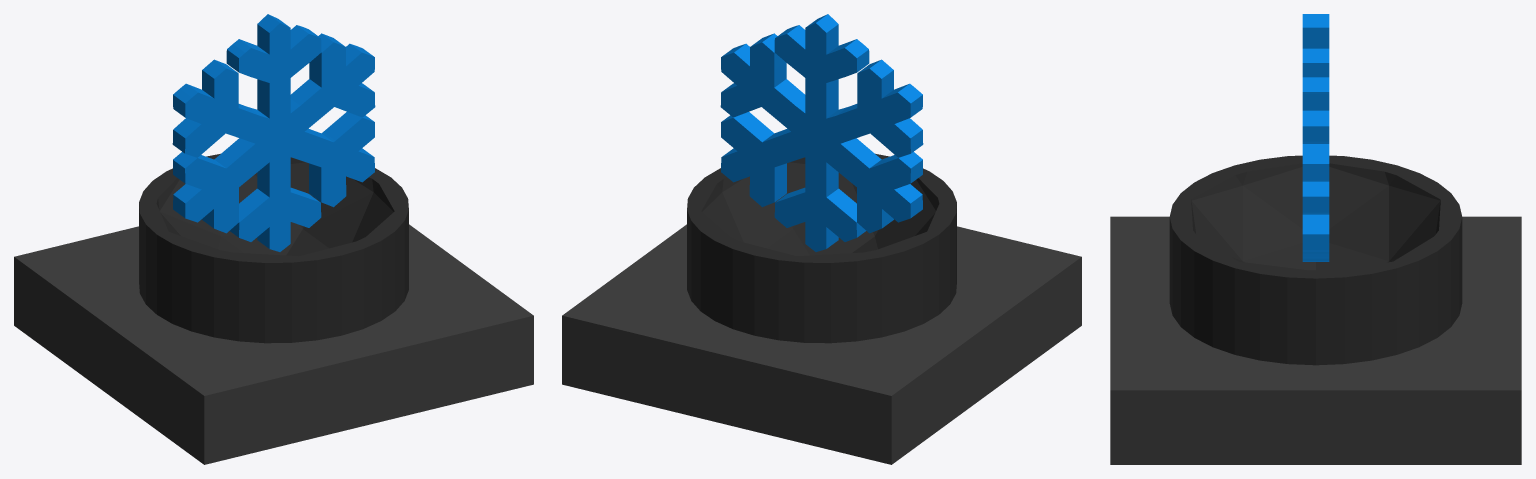
The model's file is Freezing Tower.fbx.
3 renders of one model, left to right at view 1: azimuth 30°, elevation 25°; view 2: azimuth 150°, elevation 25°; view 3: azimuth 270°, elevation 25°, orthographic. The views are drawn at different scales.
Parts seen in each view (by area): view 1: Tower Base, Head, Snowflake; view 2: Tower Base, Head, Snowflake; view 3: Tower Base, Head, Snowflake.
Boxes of the visible parts, left/top/right/bottom form: Tower Base: left=14, top=224, right=533, bottom=464; Head: left=139, top=153, right=408, bottom=343; Snowflake: left=172, top=14, right=375, bottom=251; Tower Base: left=562, top=224, right=1081, bottom=464; Head: left=687, top=153, right=956, bottom=343; Snowflake: left=720, top=14, right=923, bottom=251; Tower Base: left=1110, top=216, right=1521, bottom=464; Head: left=1169, top=155, right=1462, bottom=365; Snowflake: left=1302, top=14, right=1329, bottom=261.
Bounding box in the file's own units: 100 × 97.63 × 100.
